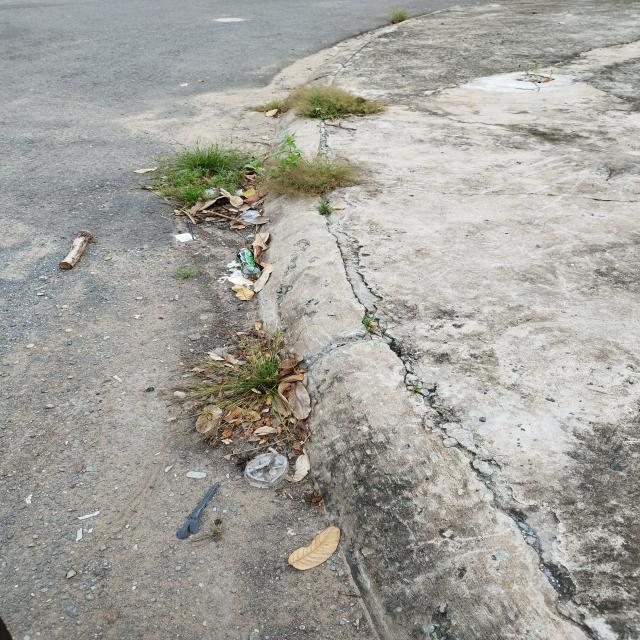bottle: (236, 248, 262, 281)
drinking straw: (188, 222, 194, 239)
lid: (243, 452, 290, 488)
plastic utensil: (176, 482, 219, 539)
